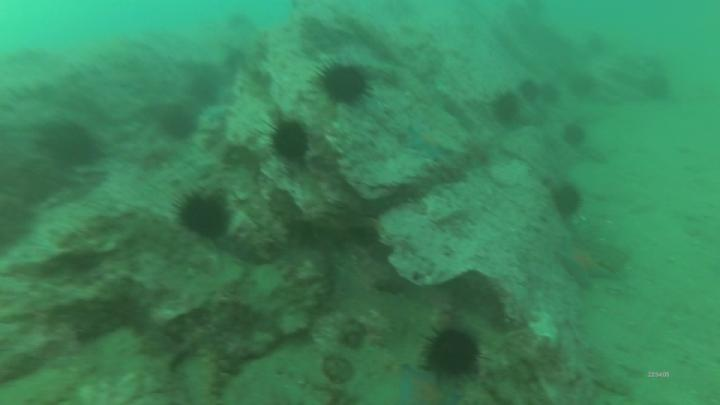echinus: (426, 330, 479, 373), (177, 198, 231, 235), (319, 64, 369, 103), (270, 120, 312, 160), (49, 131, 97, 163), (159, 105, 198, 137), (557, 186, 582, 214), (496, 94, 519, 122), (563, 125, 586, 149), (519, 80, 542, 104)
holothurian: (590, 347, 633, 396)
starfish: (397, 370, 461, 405), (557, 245, 607, 289)
